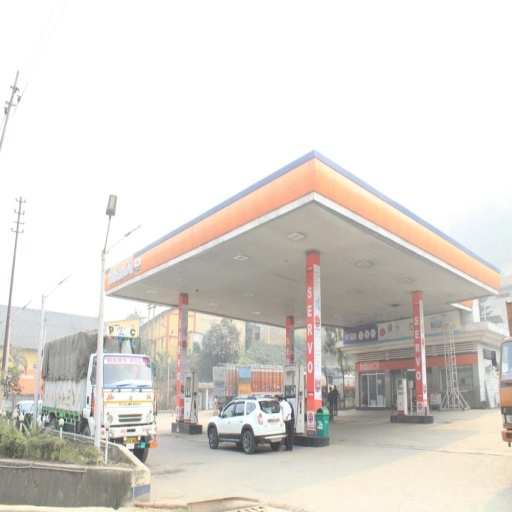roof: (102, 154, 499, 335)
